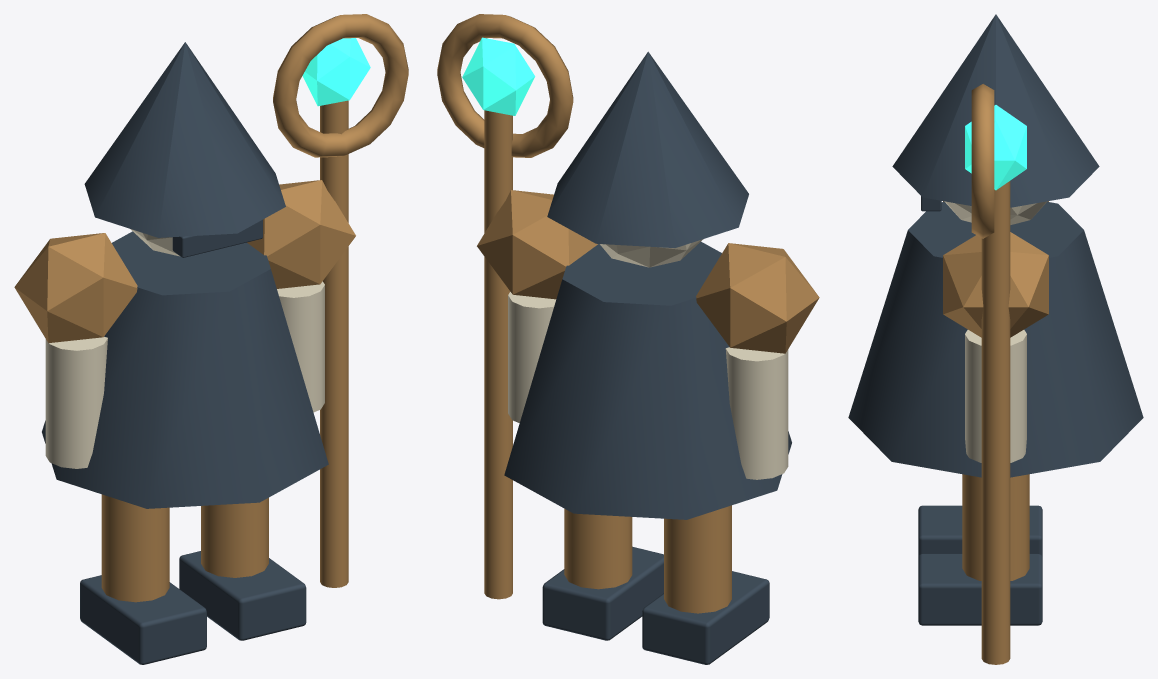
File: sunfall-rift-moba-rift-oracle-dc2f4a4c__21987.glb
3 views of the same model, side by side, from view 1: azimuth 30°, elevation 25°; view 2: azimuth 150°, elevation 25°; view 3: azimuth 270°, elevation 25° (orthographic).
Visible parts, largest first — view 1: rift-oracle; view 2: rift-oracle; view 3: rift-oracle.
Boxes of the visible parts, x1,y1,x2,y2 form: rift-oracle: (14,14,408,664); rift-oracle: (437,14,819,664); rift-oracle: (848,14,1143,664).
Bounding box in the file's own units: 1.64 × 2.44 × 1.14.
